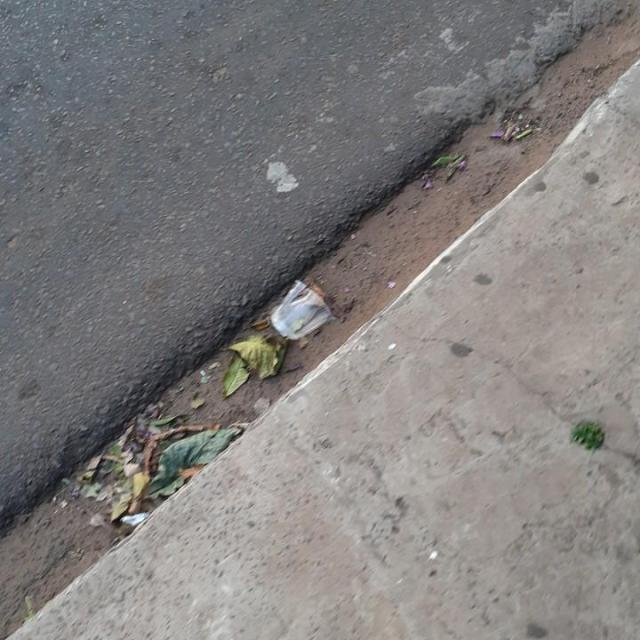litter: (271, 281, 332, 338), (120, 515, 147, 527)
